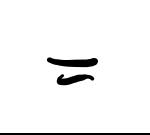eqv: (47, 57, 98, 85)
